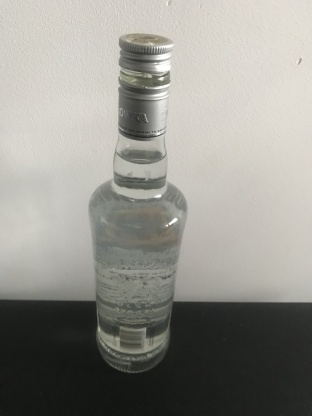nakretka: (116, 31, 174, 141), (116, 31, 174, 139)
